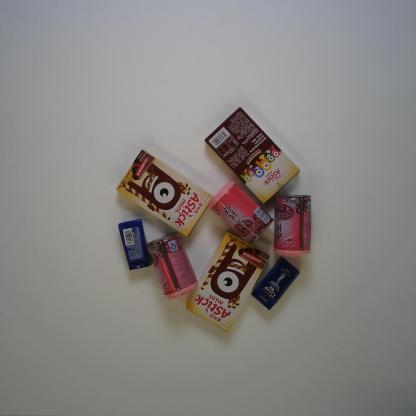Canned Food: (207, 179, 275, 247), (145, 232, 198, 299), (272, 193, 313, 259)
Dessert: (204, 107, 301, 205), (114, 148, 214, 240), (185, 231, 270, 333)
Personal Hygiene: (250, 256, 302, 312), (117, 218, 153, 272)
